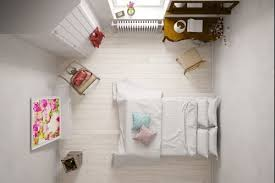Bed: (111, 89, 224, 165)
